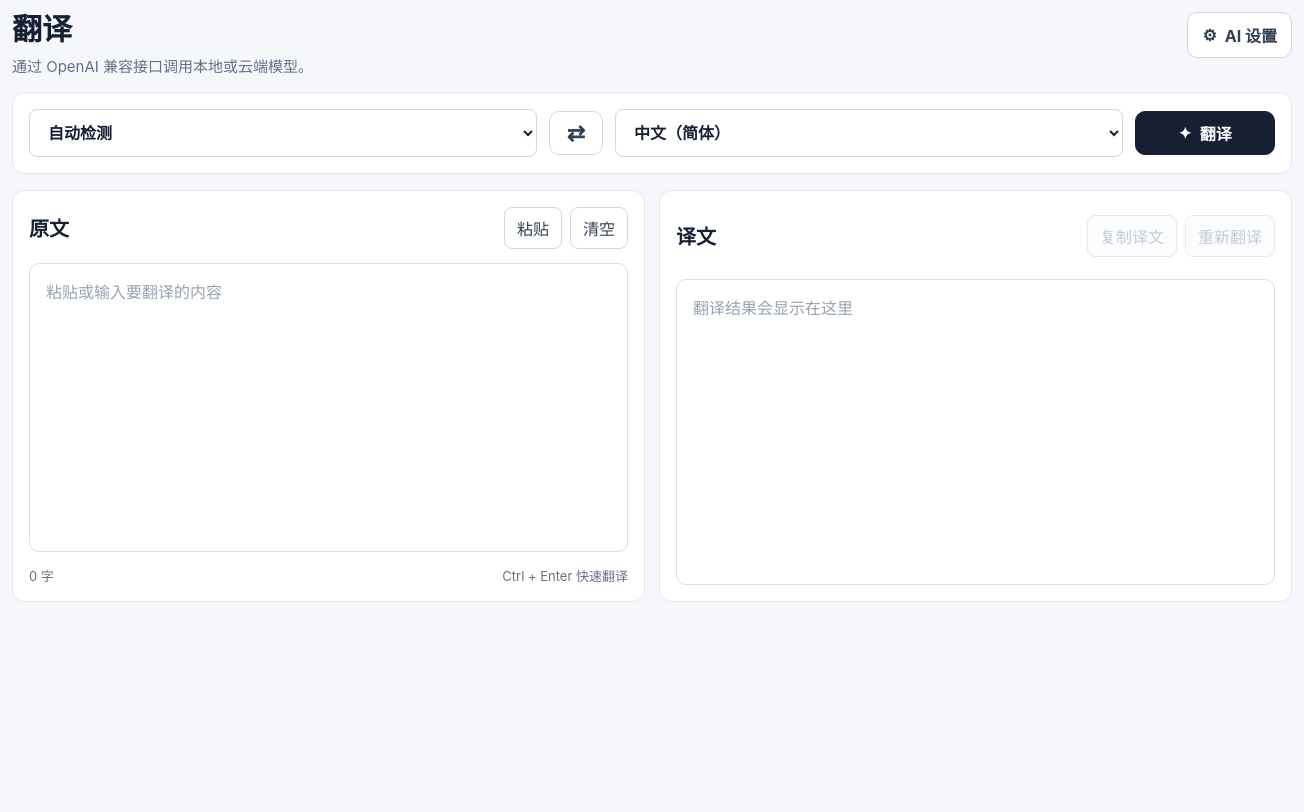
ignores an in-flight result after changing 源语言
Type "hello" into the text box labelled "原文".
click(328, 407); type("hello")  # box [29,262,628,552]
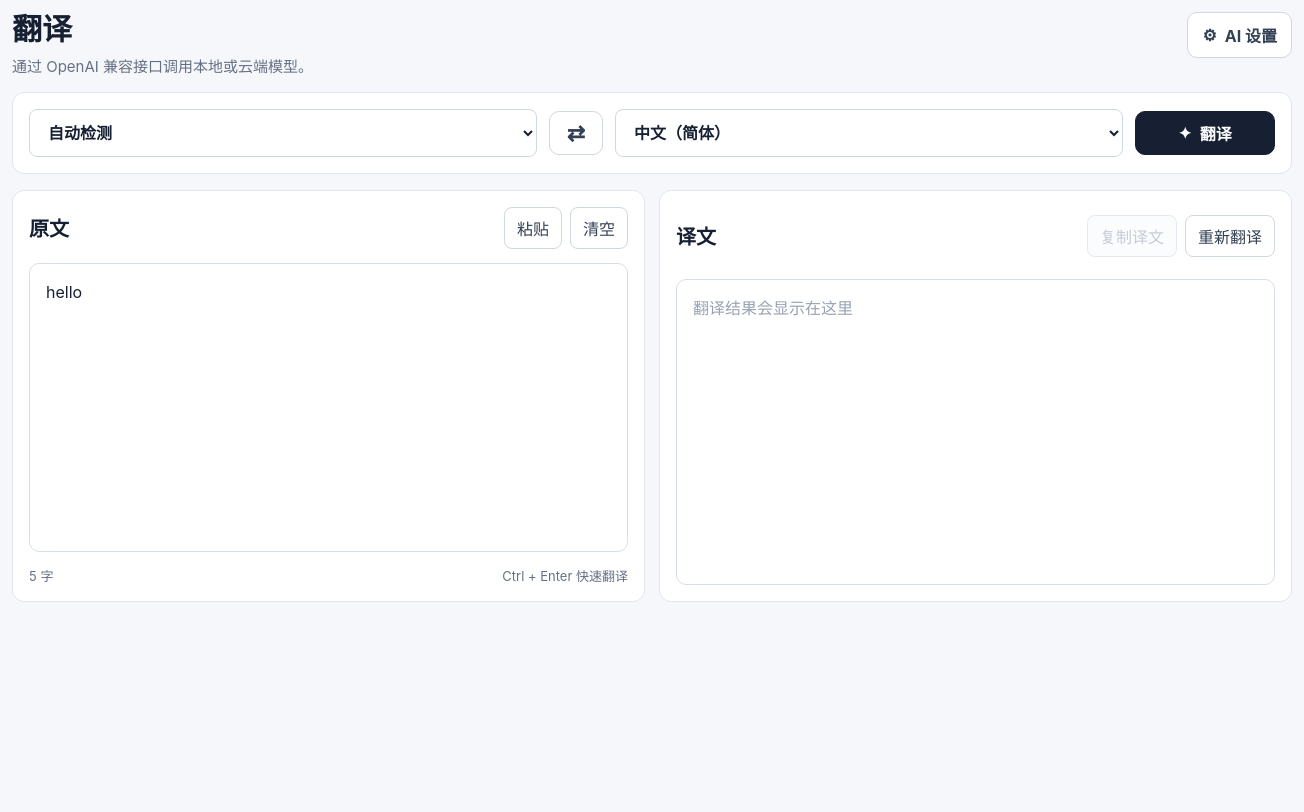
Click the button "✦ 翻译".
click(1205, 132)  # box [1135,110,1275,154]
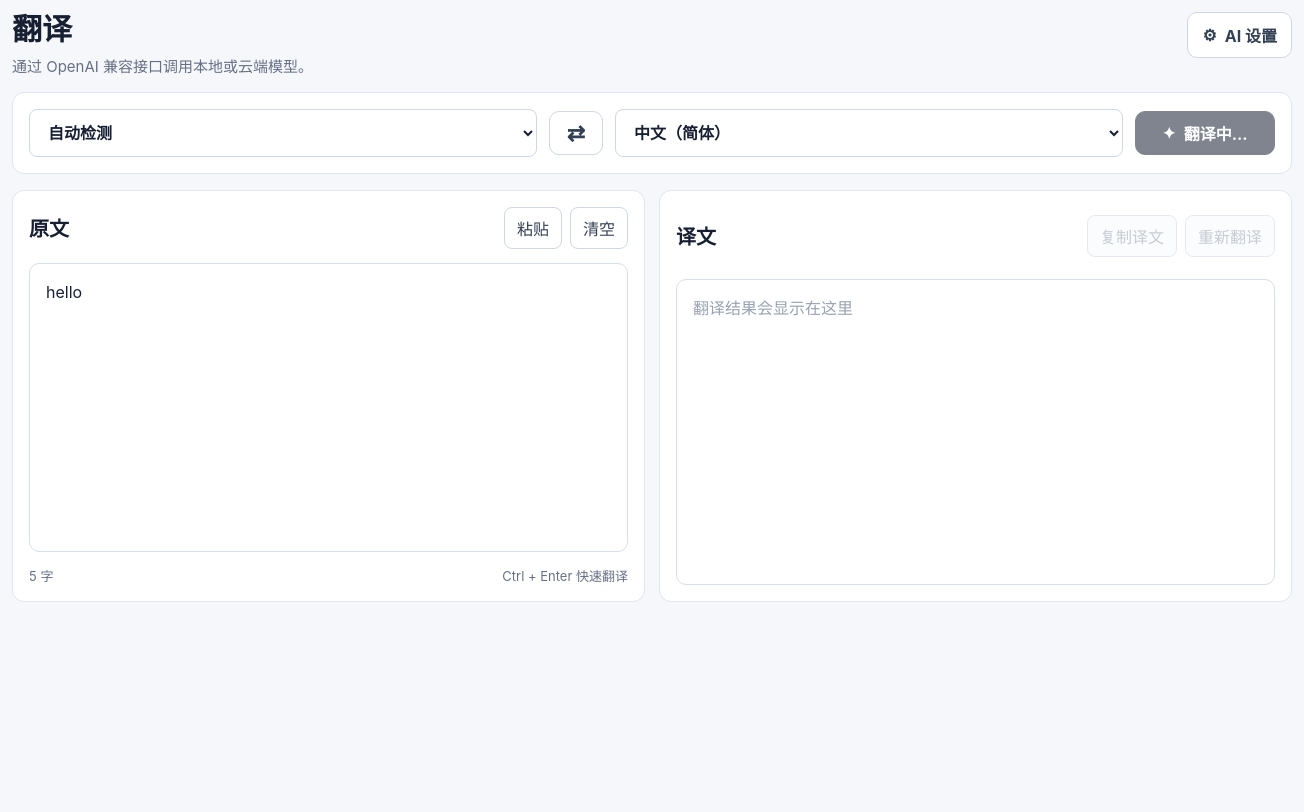
Select "韩语" in the dropdown named "源语言" at coordinates (283, 132), box [29,108,537,156]
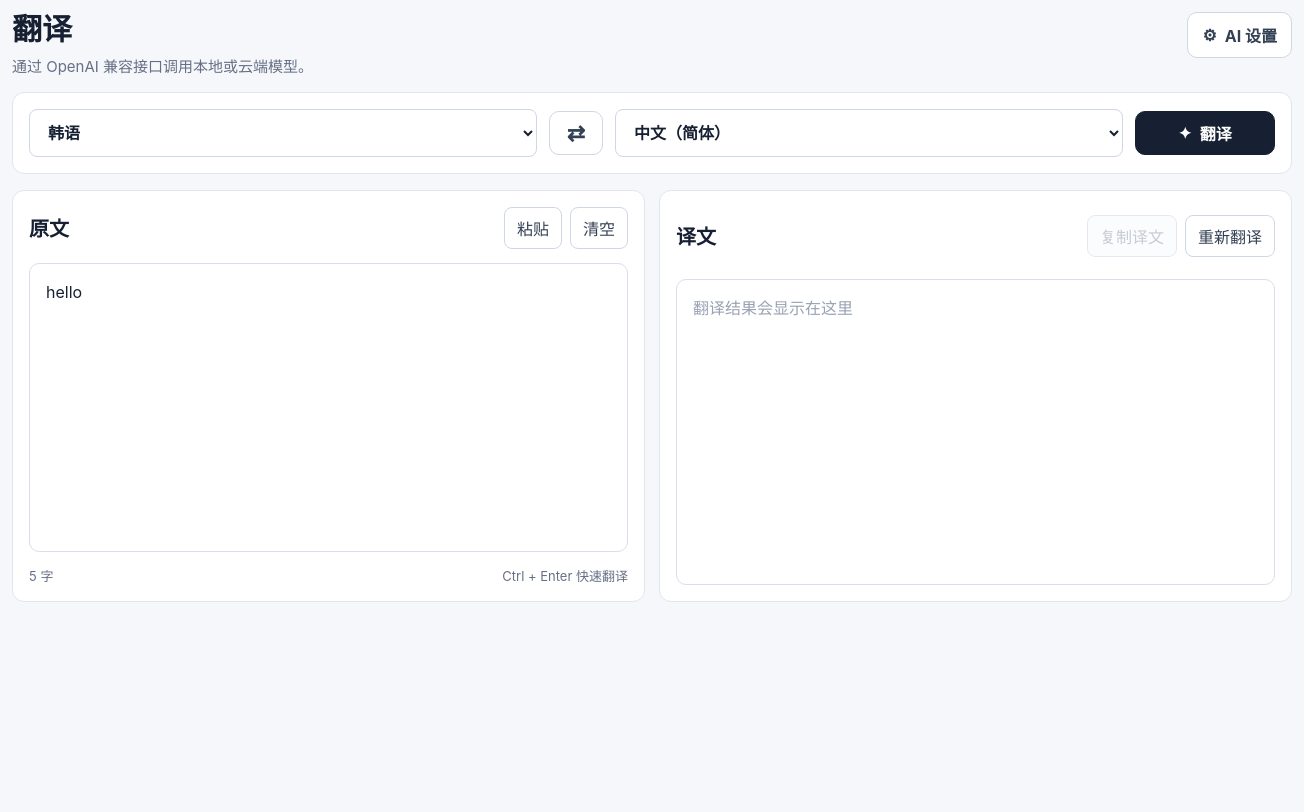
expect the text box labelled "译文" is empty: met, box [676,279,1275,585]
Click the button "✦ 翻译".
click(1205, 132)  # box [1135,110,1275,154]
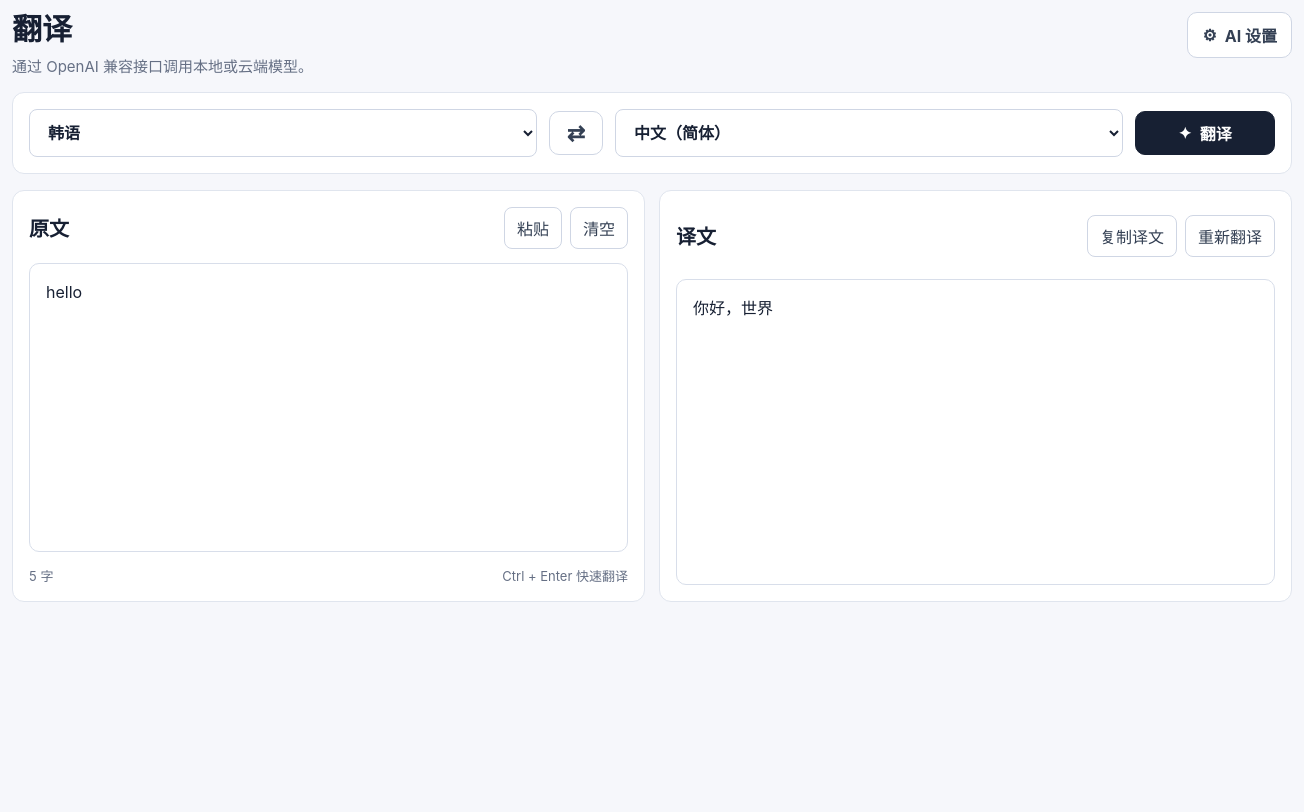
expect the text box showing "你好，世界" is shown: met, box [676,279,1275,585]
